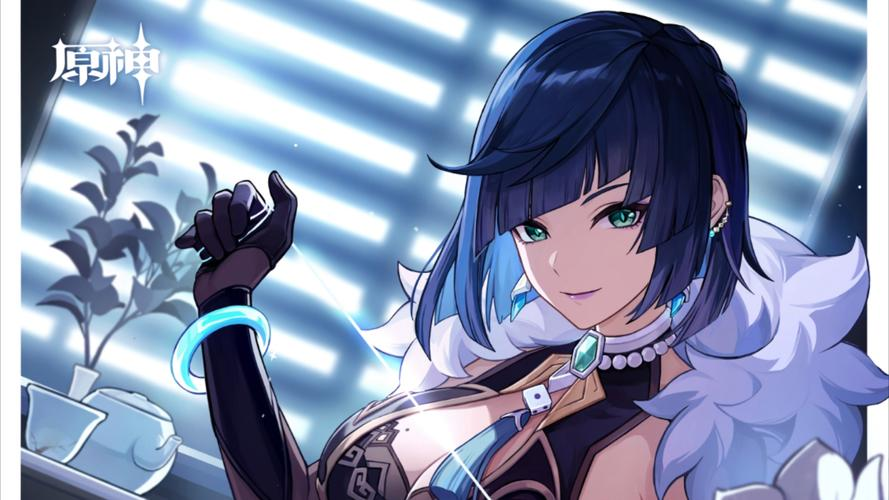夜兰: (175, 11, 778, 500)
